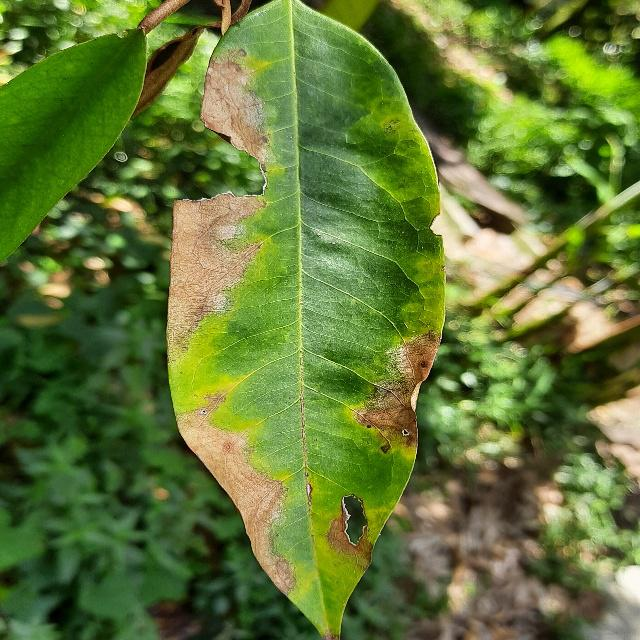Leaf Blight: (161, 0, 454, 639)
